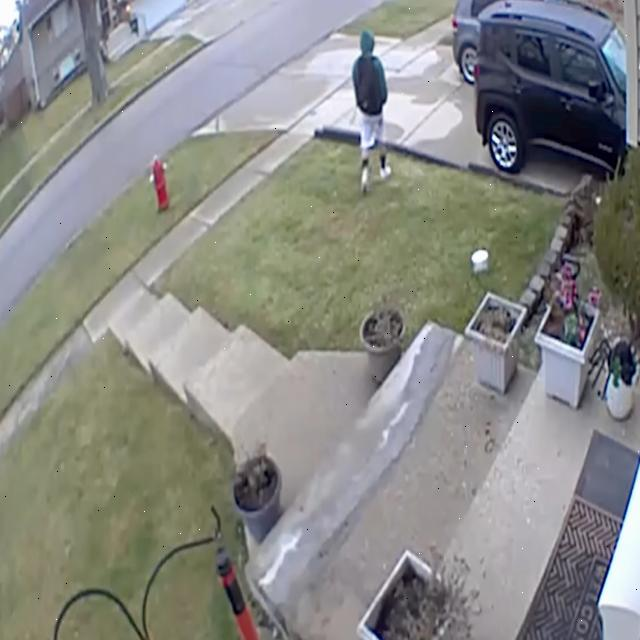standing: (352, 30, 391, 193)
